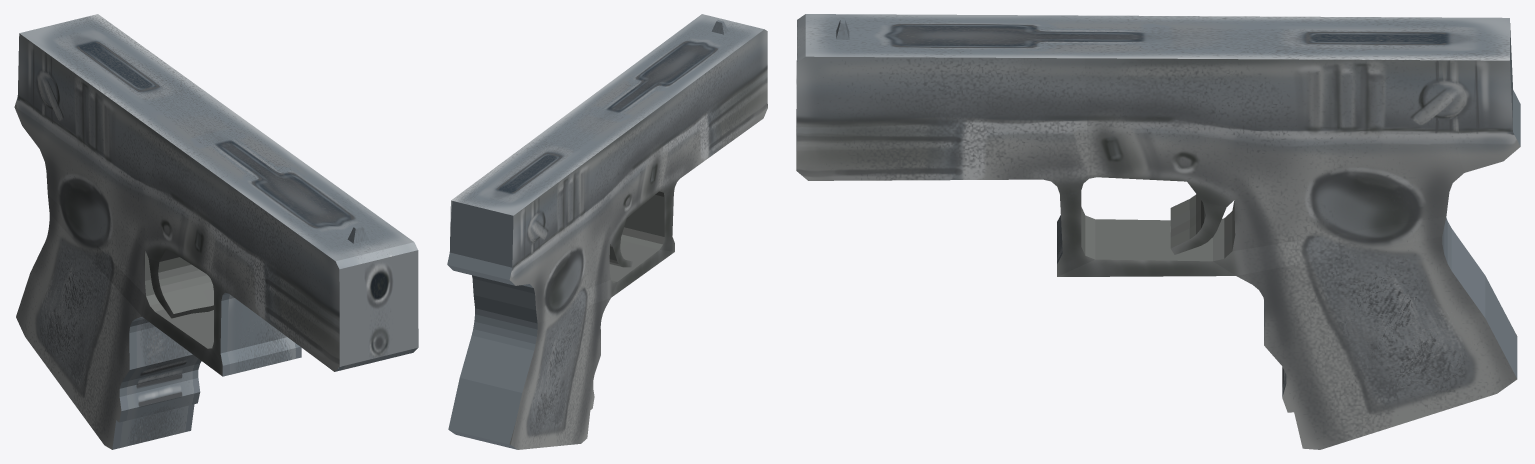
The model's file is gun.fbx.
3 views of the same model, side by side, from view 1: azimuth 30°, elevation 25°; view 2: azimuth 150°, elevation 25°; view 3: azimuth 270°, elevation 25° (orthographic). The views are drawn at different scales.
Parts seen in each view (by area): view 1: Plane; view 2: Plane; view 3: Plane.
Part boxes in pixels (left/top/right/bottom): Plane: left=14, top=14, right=418, bottom=449; Plane: left=447, top=14, right=767, bottom=449; Plane: left=796, top=14, right=1520, bottom=449.
Size of the model in its own units: 4.3 by 19.08 by 30.76.
1 material, 1 textured.
